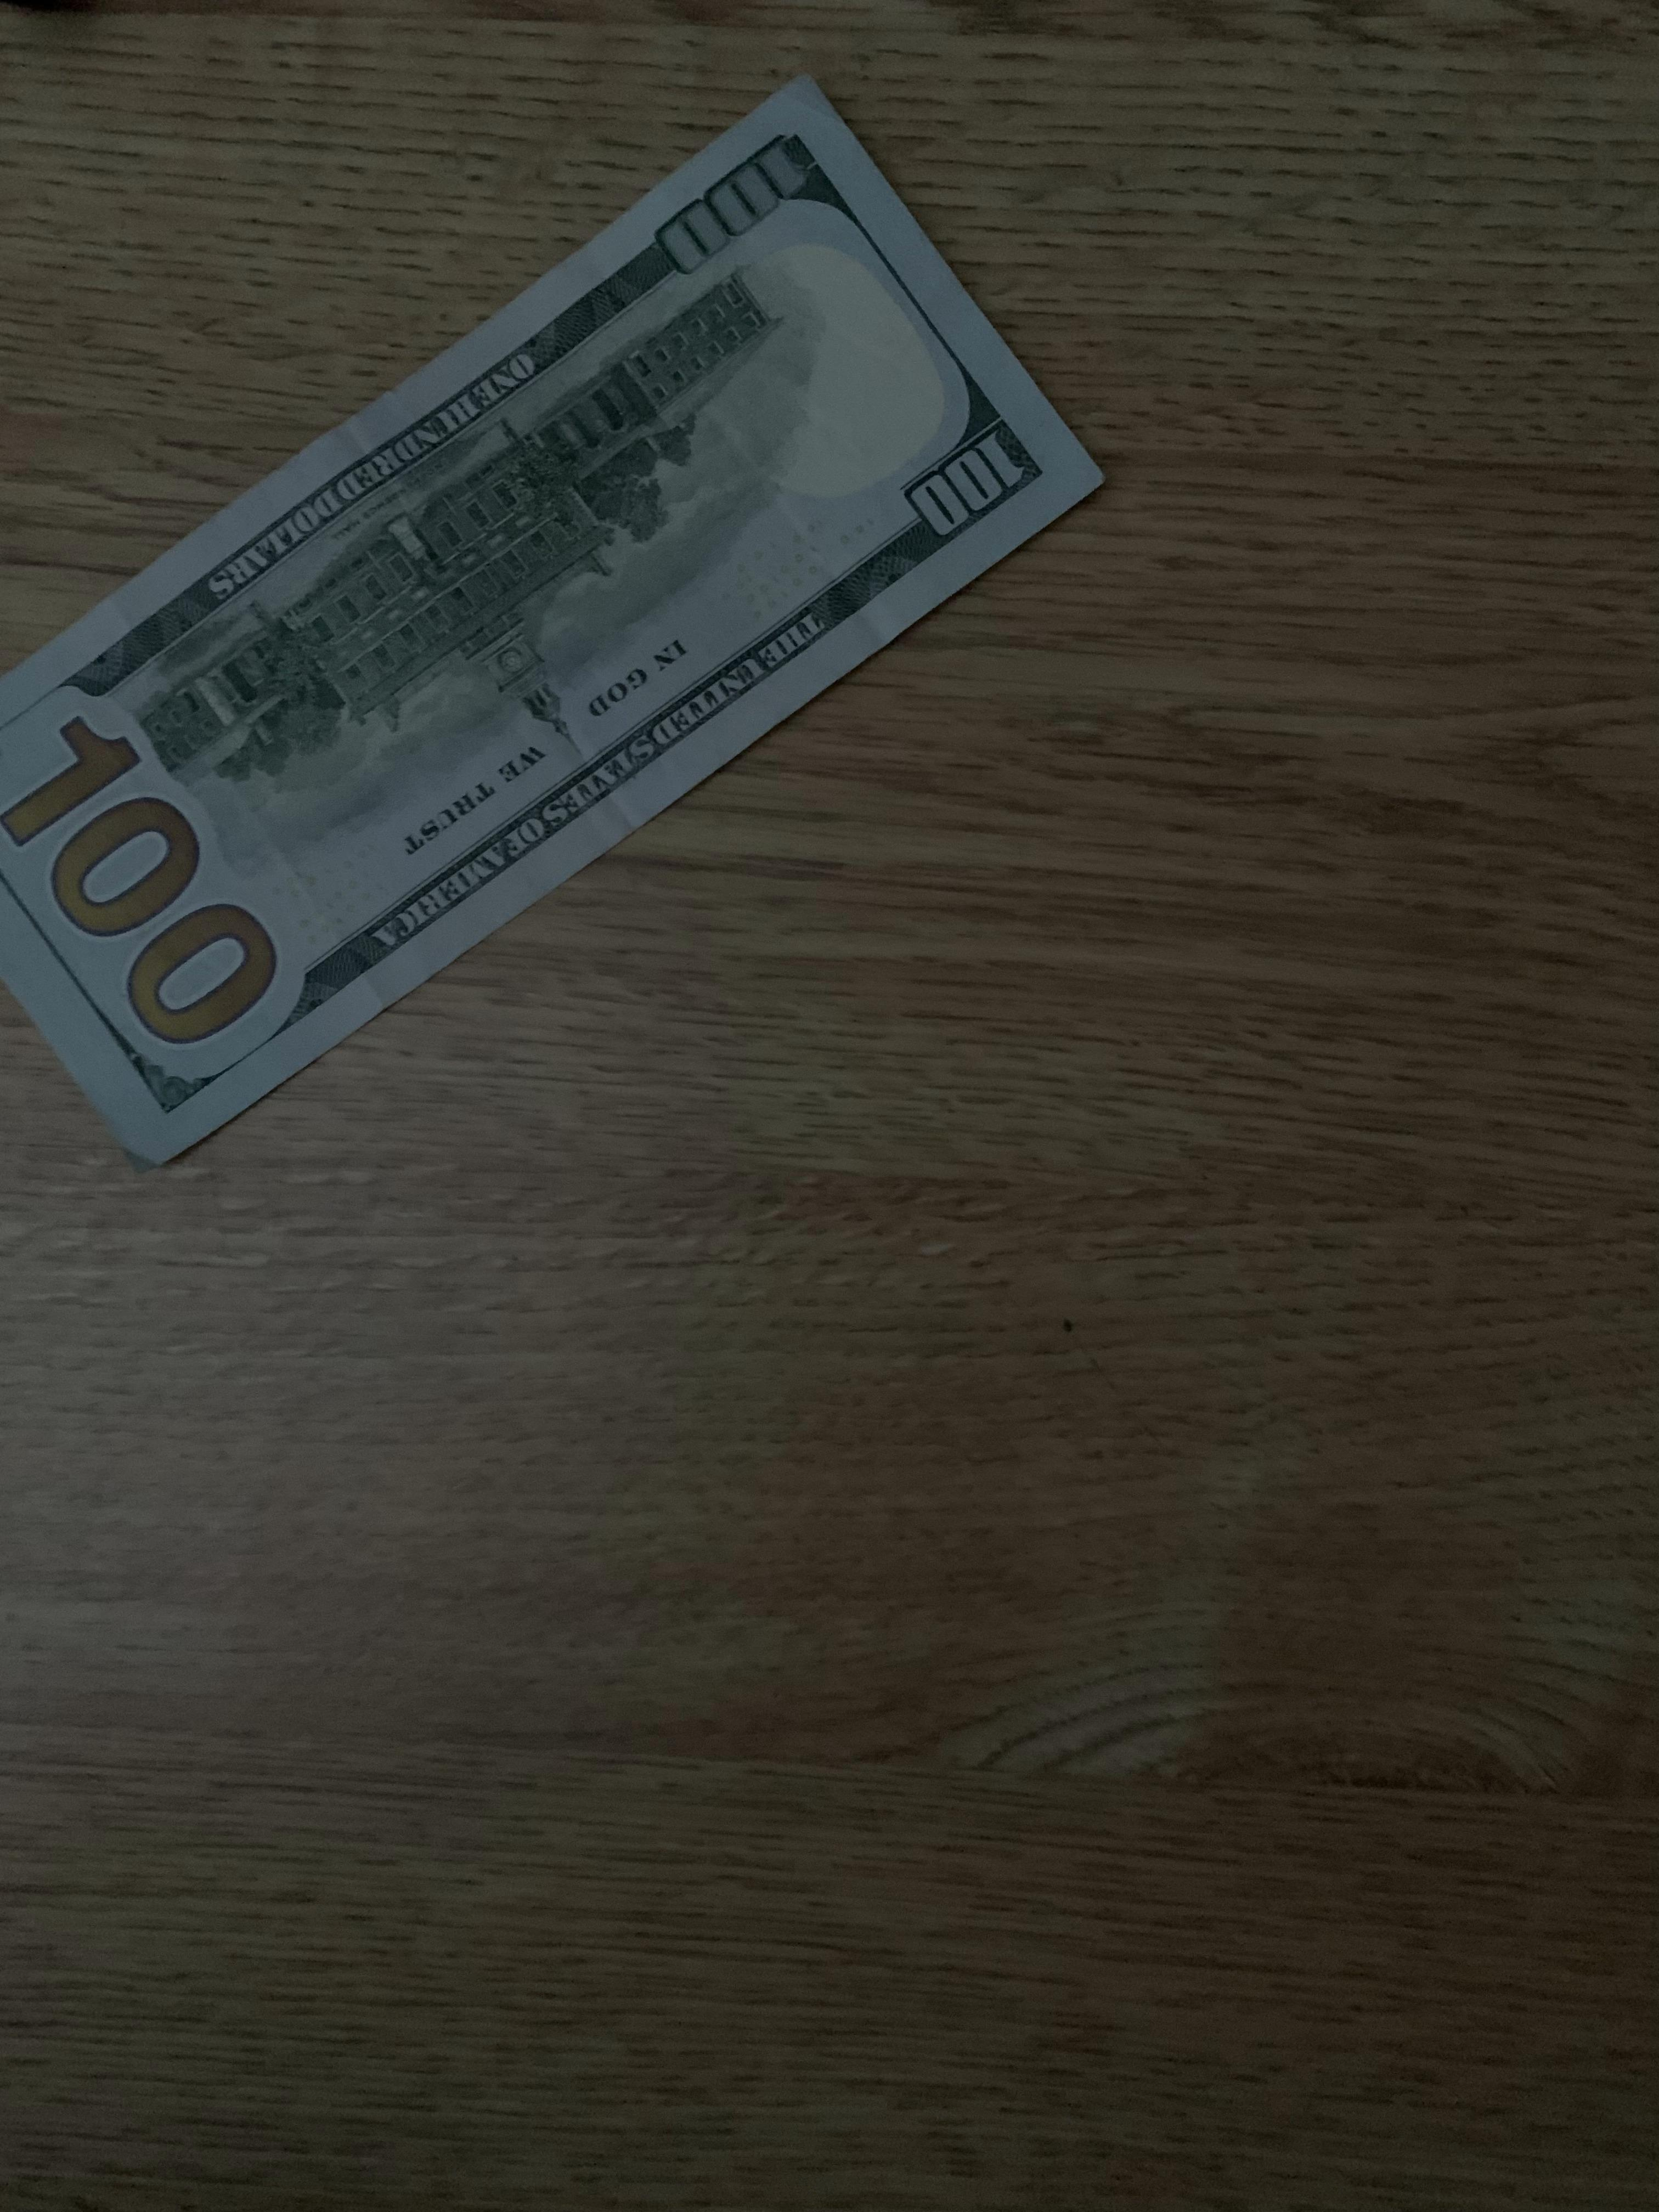HundredBill: (3, 68, 1114, 1165)
